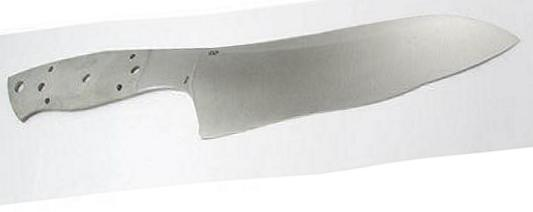knife: (8, 16, 525, 139)
